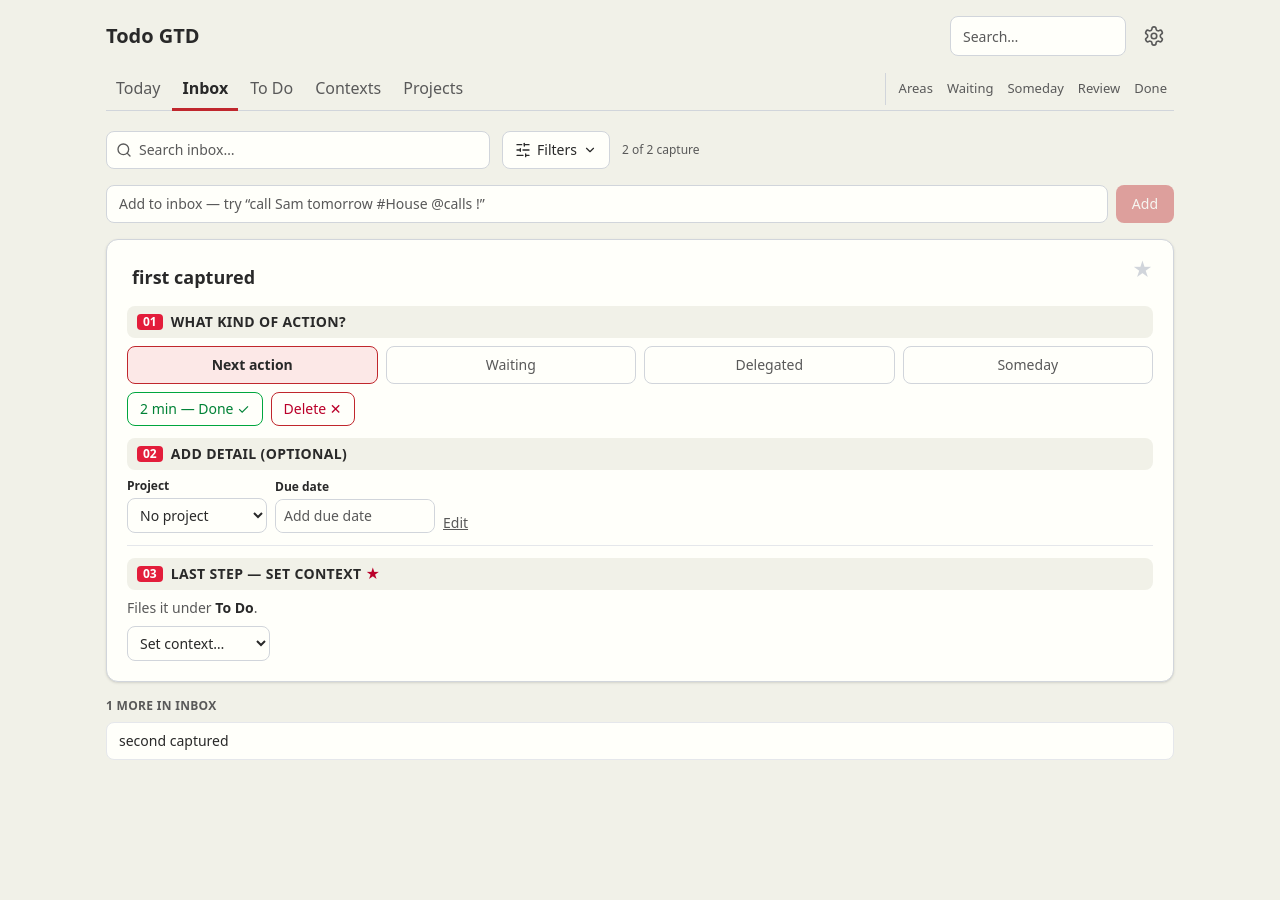
Test: InboxPage — undoing a filing › promotes the restored item to the card instead of leaving it down the queue
Click the button "second captured". click: (174, 740)
box: [106,722,1174,760]
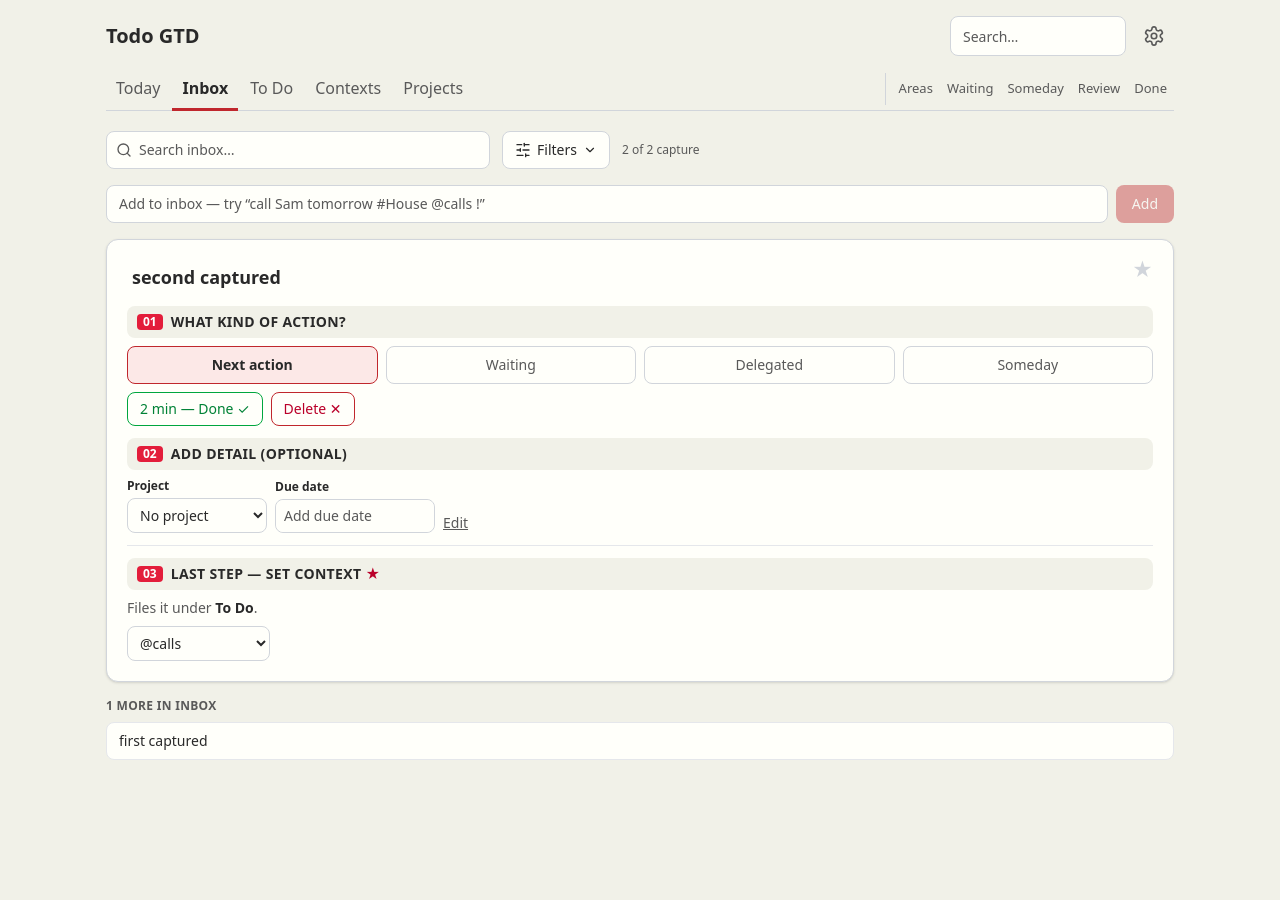
Check: the button titled "Click to rename" reads "second captured", box [127,260,286,294]
Select "@calls" in the dropdown named "Set context and file this todo". click: (198, 644)
box: [127,626,270,661]
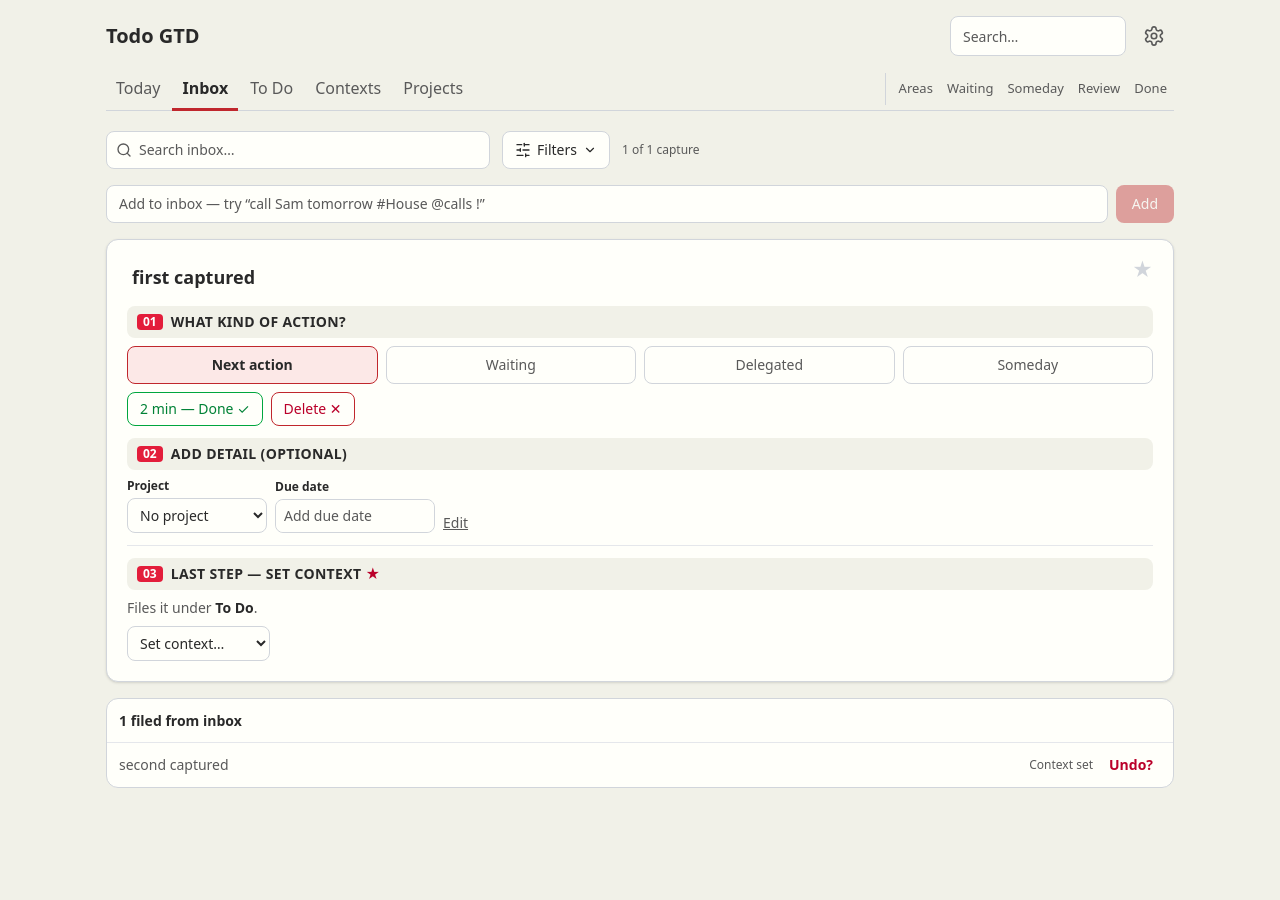
Check: the button titled "Click to rename" reads "first captured", box [127,260,260,294]
Click the button "Undo?". click: (1131, 765)
box: [1101,751,1161,779]
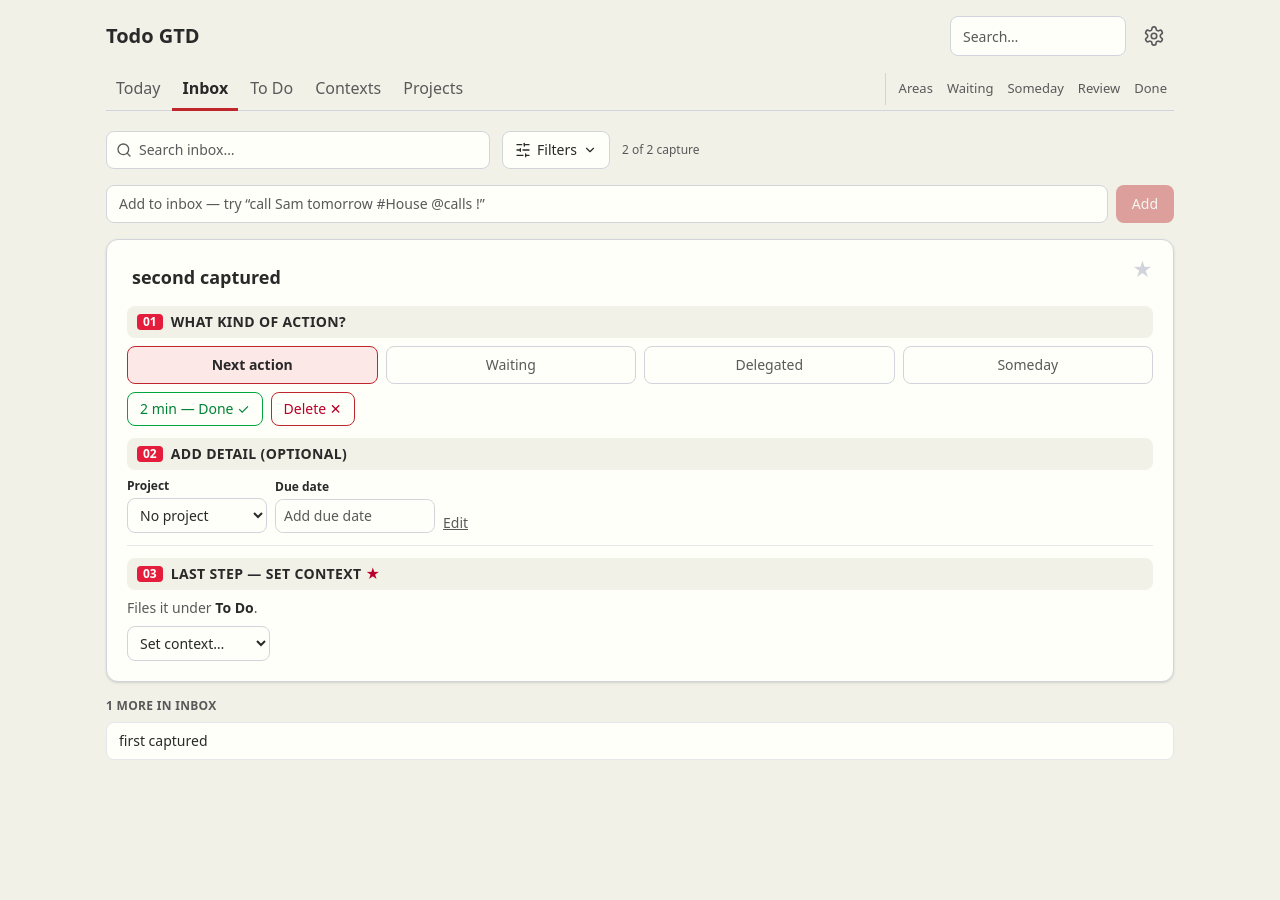
Check: the button titled "Click to rename" reads "second captured", box [127,260,286,294]
